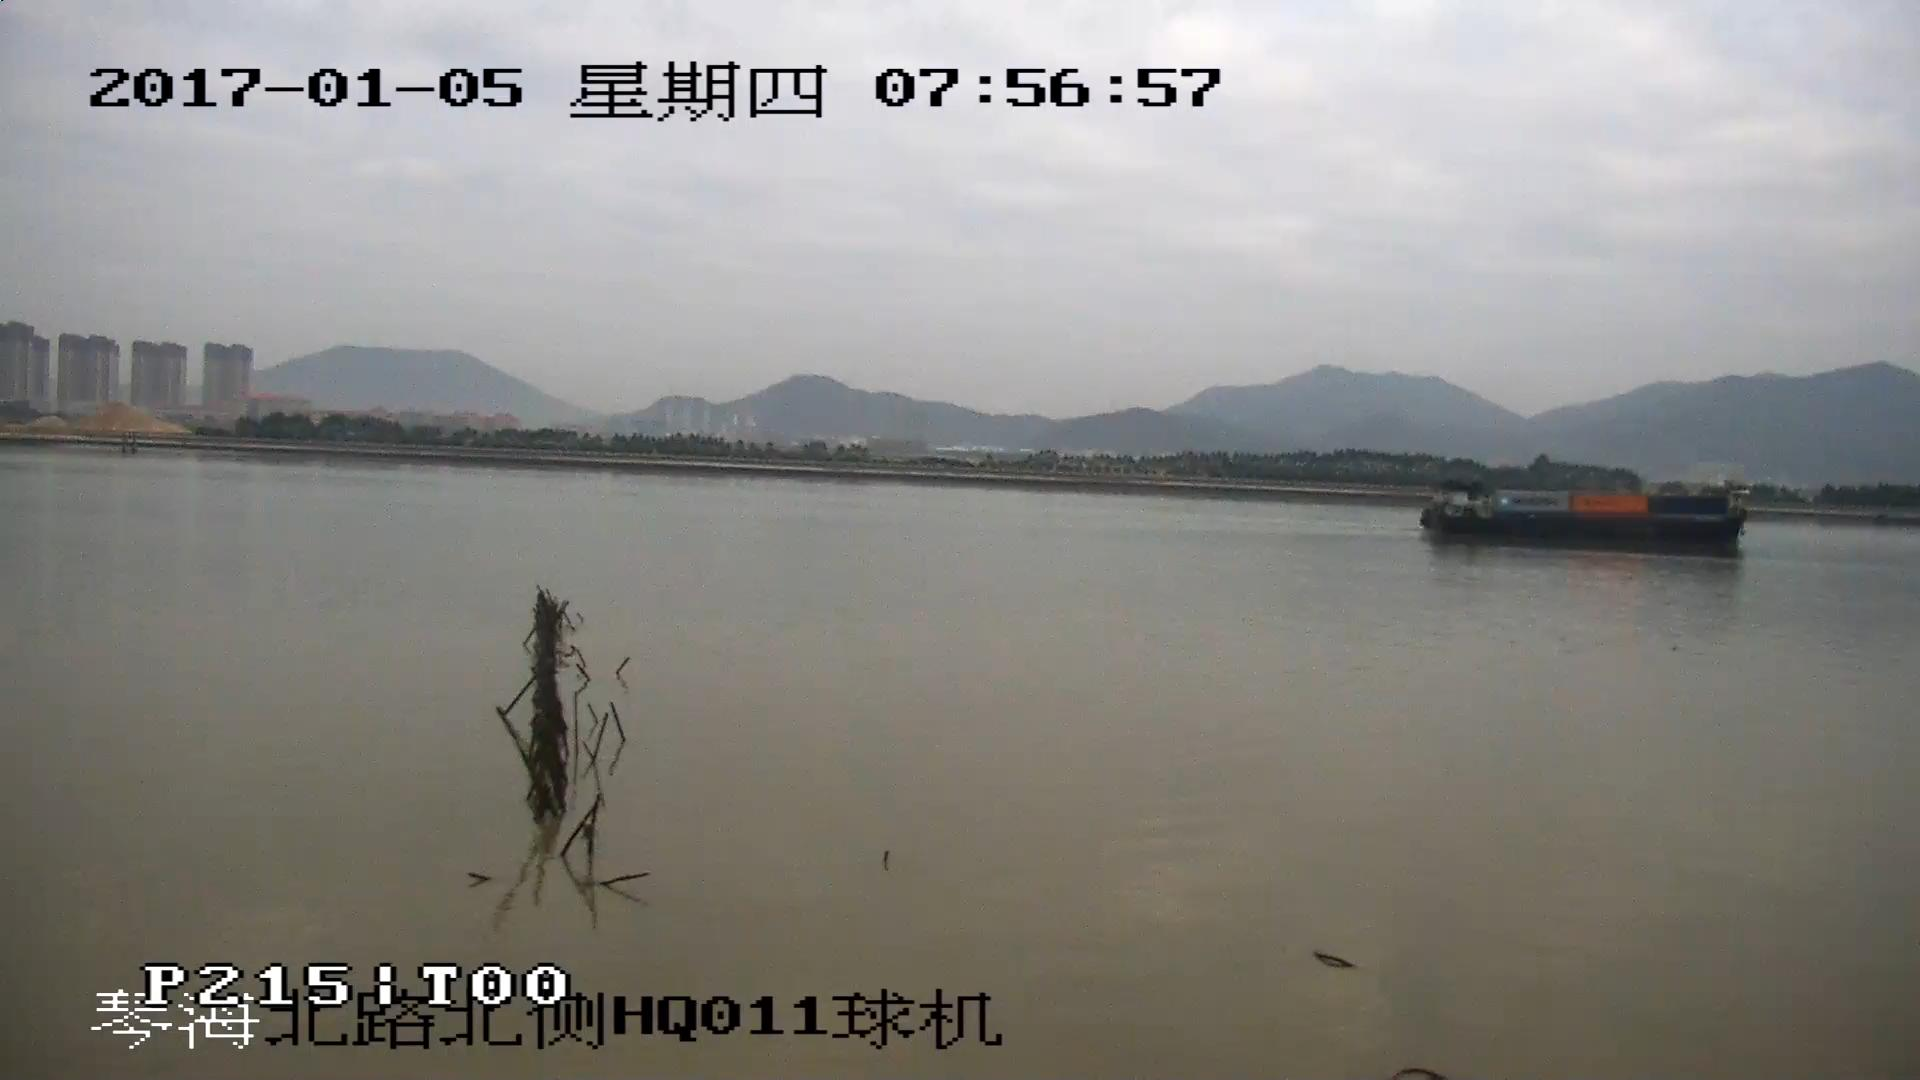container ship: (1419, 484, 1748, 544)
